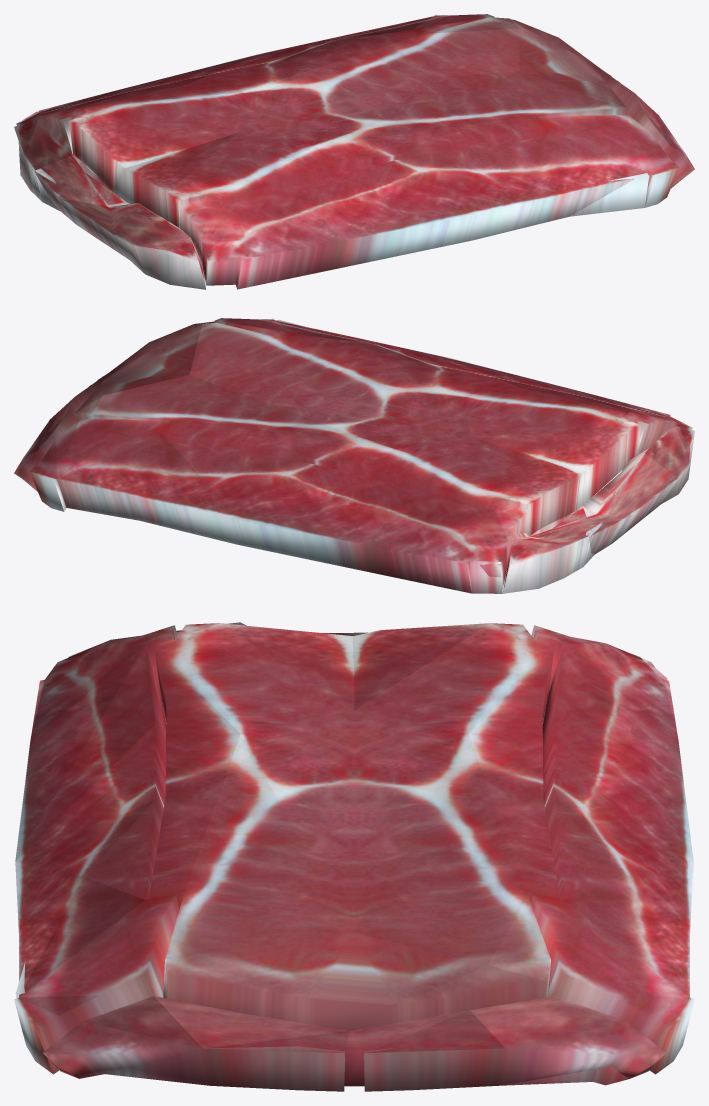
File: Meat.fbx
The picture shows the model from 3 angles, top to bottom: view 1: azimuth 30°, elevation 25°; view 2: azimuth 150°, elevation 25°; view 3: azimuth 270°, elevation 25°; orthographic projection. The views are drawn at different scales.
Parts seen in each view (by area): view 1: Meat; view 2: Meat; view 3: Meat.
Part boxes in pixels (x1,y1,x2,y2): Meat: (14,14,694,289); Meat: (14,318,694,593); Meat: (14,622,694,1091).
Size of the model in its own units: 20.61 by 2.84 by 14.44.
1 material, 1 textured.
